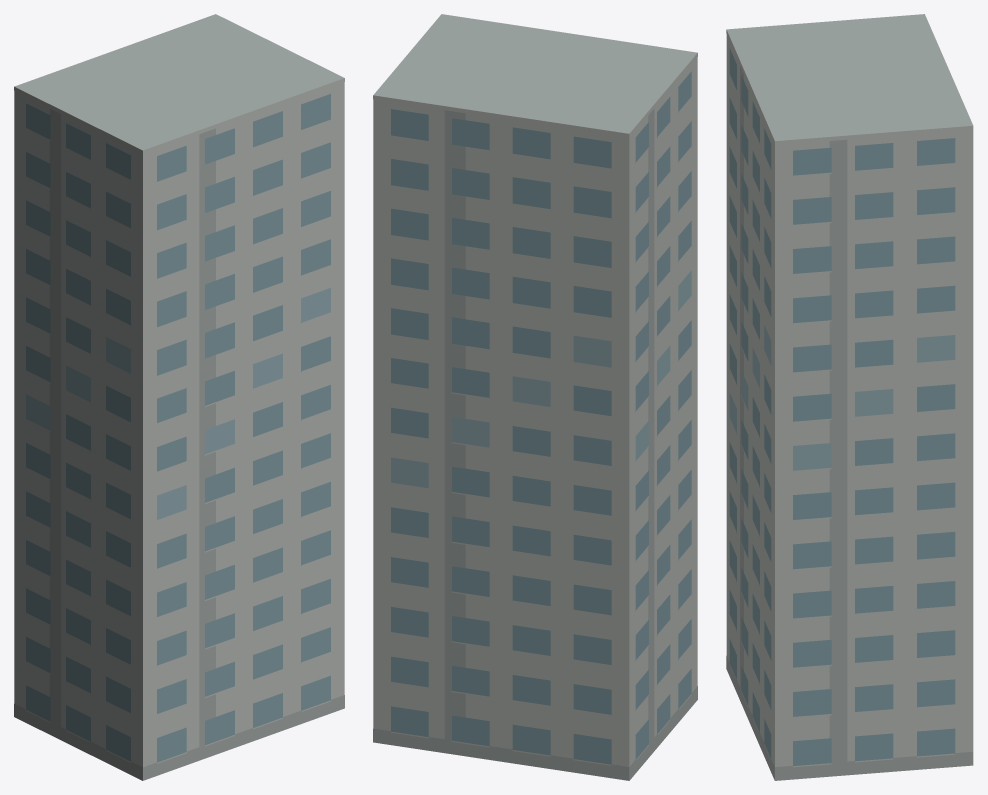
Rendered from residential-b9d6d8f2-ea36-4089-9ced-dd307f6877ce.glb.
3 renders of one model, left to right at view 1: azimuth 30°, elevation 25°; view 2: azimuth 150°, elevation 25°; view 3: azimuth 270°, elevation 25°, orthographic. The views are drawn at different scales.
Parts seen in each view (by area): view 1: residential-b9d6d8f2-ea36-4089-9ced-dd307f6877ce.tmp; view 2: residential-b9d6d8f2-ea36-4089-9ced-dd307f6877ce.tmp; view 3: residential-b9d6d8f2-ea36-4089-9ced-dd307f6877ce.tmp.
Part boxes in pixels (bbox=[...]): residential-b9d6d8f2-ea36-4089-9ced-dd307f6877ce.tmp: bbox=[14, 14, 344, 780]; residential-b9d6d8f2-ea36-4089-9ced-dd307f6877ce.tmp: bbox=[373, 14, 697, 780]; residential-b9d6d8f2-ea36-4089-9ced-dd307f6877ce.tmp: bbox=[726, 14, 973, 780].
Size of the model in its own units: 16.21 by 38 by 13.3.
